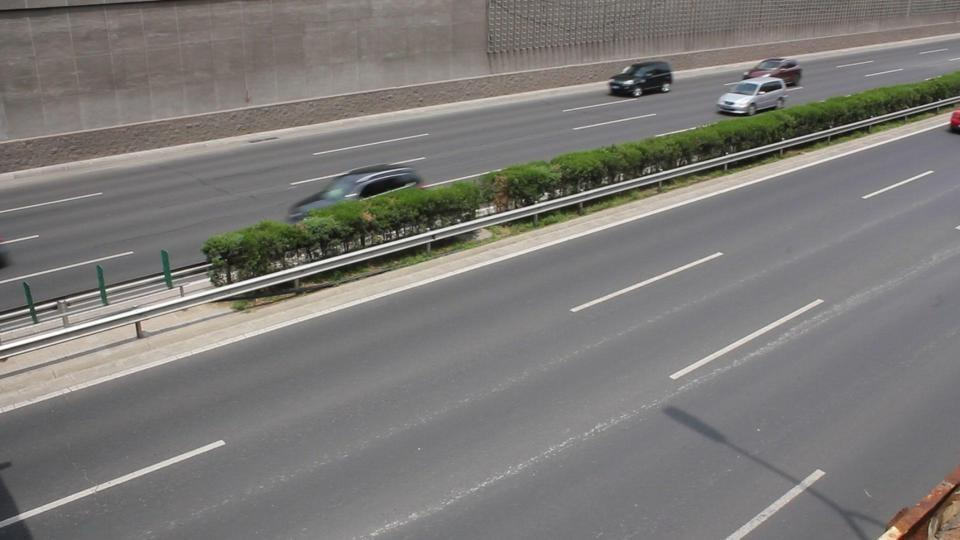car: (286, 164, 424, 224), (716, 76, 789, 116), (607, 60, 674, 98), (745, 57, 803, 89), (948, 109, 960, 133)
